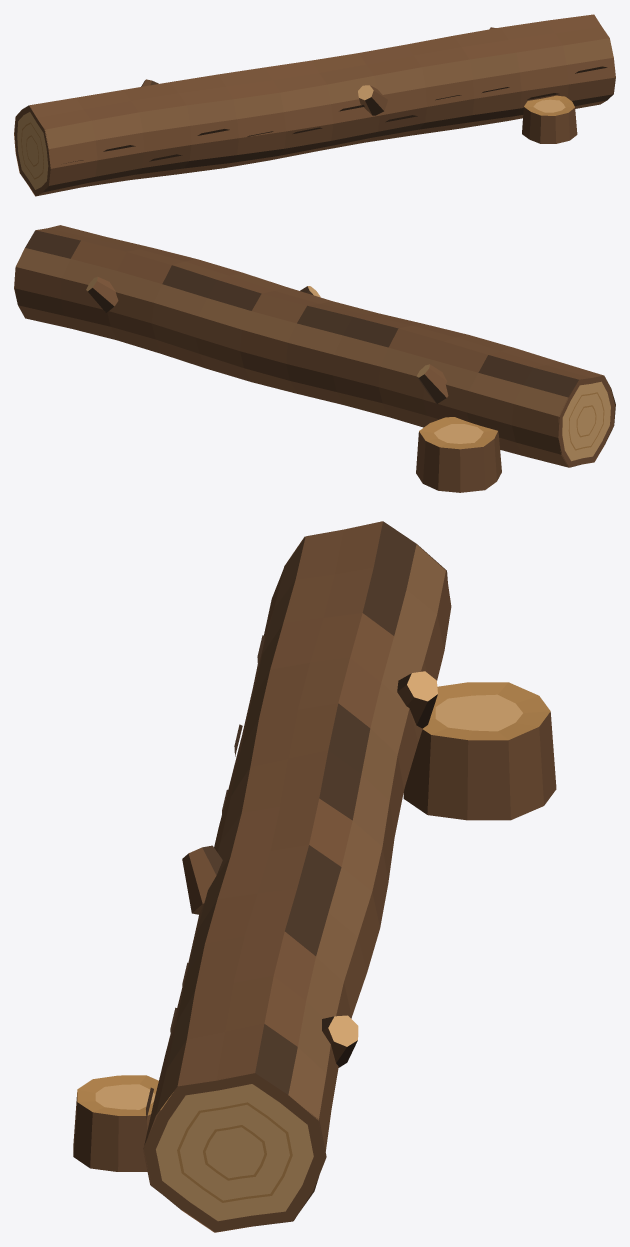
Rendered from log_three_lane_B.glb.
The picture shows the model from 3 angles, top to bottom: view 1: azimuth 30°, elevation 25°; view 2: azimuth 150°, elevation 25°; view 3: azimuth 270°, elevation 25°; orthographic projection. The views are drawn at different scales.
Visible parts, largest first — view 1: log_three_lane_B; view 2: log_three_lane_B; view 3: log_three_lane_B.
Boxes of the visible parts, x1,y1,x2,y2 form: log_three_lane_B: (14, 14, 615, 196); log_three_lane_B: (14, 225, 615, 492); log_three_lane_B: (73, 521, 556, 1232).
Bounding box in the file's own units: 7.27 × 1.25 × 2.81.
